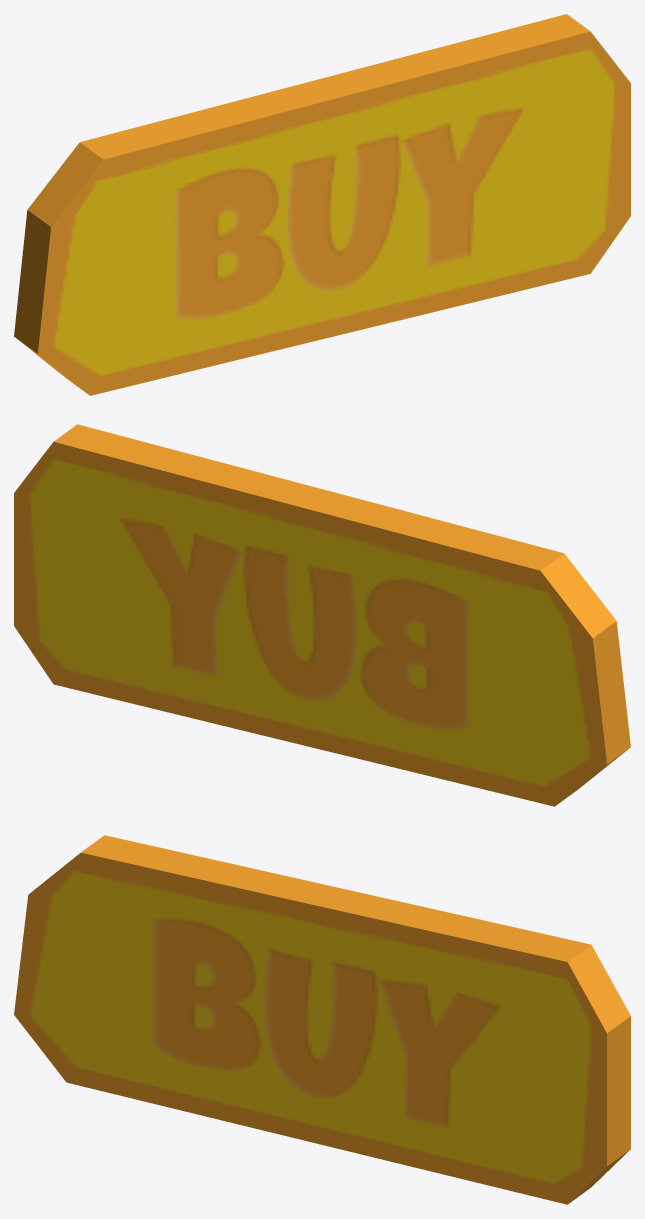
Rendered from BuyButton.fbx.
3 views of the same model, one above another, from view 1: azimuth 30°, elevation 25°; view 2: azimuth 150°, elevation 25°; view 3: azimuth 330°, elevation 25° (orthographic).
Visible parts, largest first — view 1: BuyButton; view 2: BuyButton; view 3: BuyButton.
Boxes of the visible parts, bbox=[...] form: BuyButton: bbox=[14, 14, 630, 395]; BuyButton: bbox=[14, 424, 630, 806]; BuyButton: bbox=[14, 835, 630, 1204].
Bounding box in the file's own units: 1.2 × 0.4689 × 0.0866.
